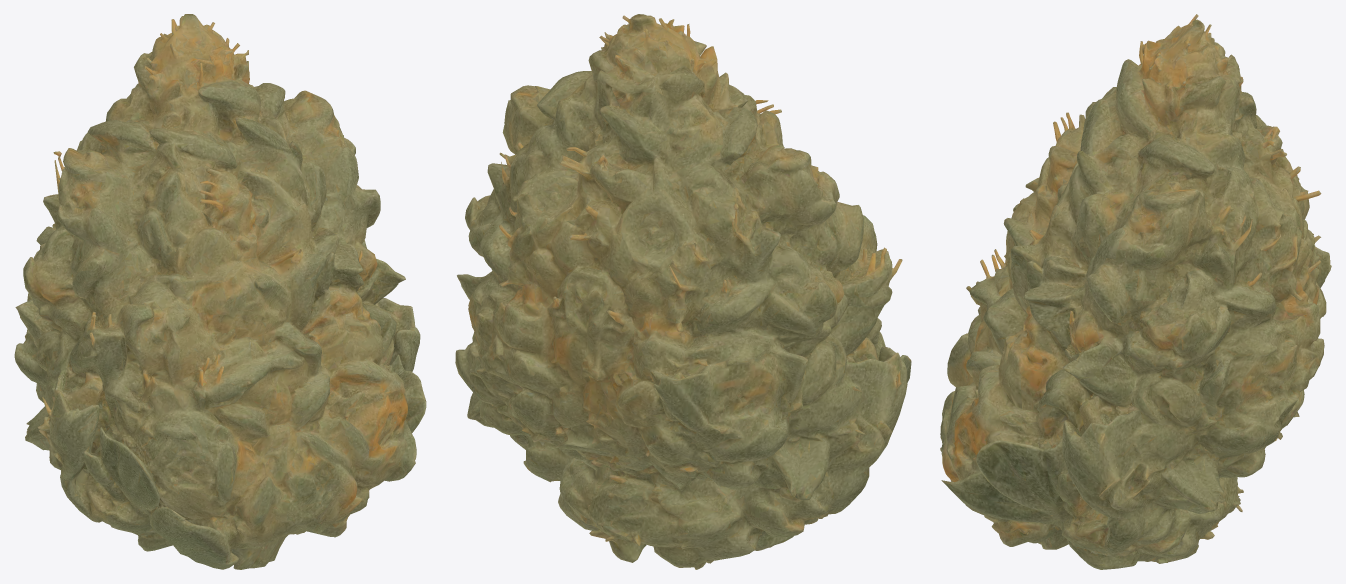
Rendered from bud.glb.
3 views of the same model, side by side, from view 1: azimuth 30°, elevation 25°; view 2: azimuth 150°, elevation 25°; view 3: azimuth 270°, elevation 25° (orthographic). The views are drawn at different scales.
Parts seen in each view (by area): view 1: Mesh_0; view 2: Mesh_0; view 3: Mesh_0.
Part boxes in pixels (<box>): Mesh_0: <box>14,14,426,569</box>; Mesh_0: <box>455,14,911,569</box>; Mesh_0: <box>940,14,1331,569</box>.
Bounding box in the file's own units: 1.48 × 1.91 × 1.3.
Materials: 1 (1 with a texture image).
